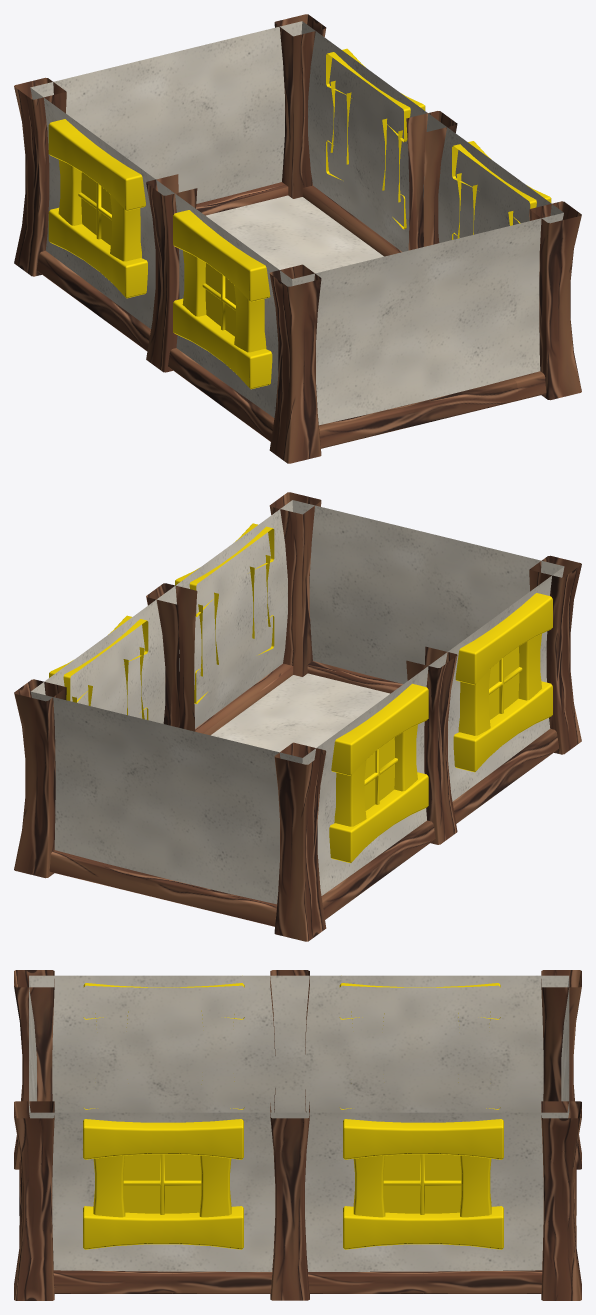
Rendered from house_top_floor1.FBX.
3 renders of one model, top to bottom at view 1: azimuth 30°, elevation 25°; view 2: azimuth 150°, elevation 25°; view 3: azimuth 270°, elevation 25°, orthographic. The views are drawn at different scales.
Parts seen in each view (by area): view 1: top_floor001; view 2: top_floor001; view 3: top_floor001.
Boxes of the visible parts, box(x1,y1,x2,y2) form: top_floor001: box(14, 14, 581, 463); top_floor001: box(14, 492, 581, 941); top_floor001: box(14, 970, 581, 1300).
Size of the model in its own units: 365 by 204 by 576.
